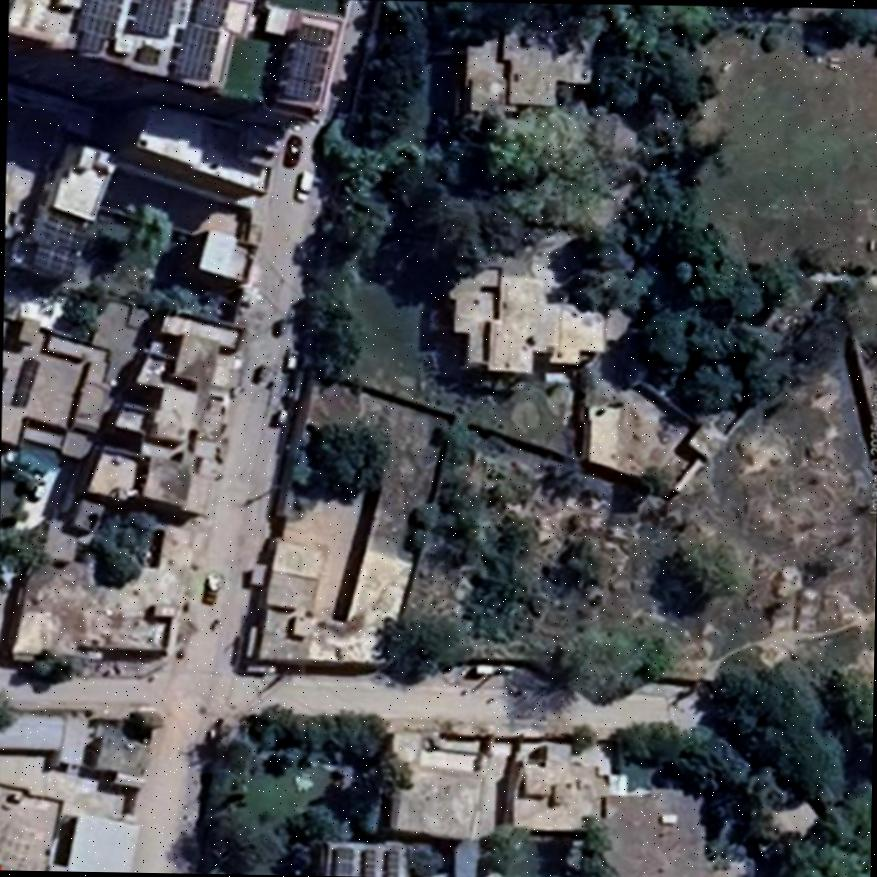Solarpanel: (284, 21, 331, 101), (33, 208, 86, 276), (174, 18, 216, 81), (79, 0, 119, 52), (131, 0, 174, 38), (190, 0, 226, 27), (334, 847, 354, 876), (361, 850, 375, 876), (384, 850, 397, 876)
